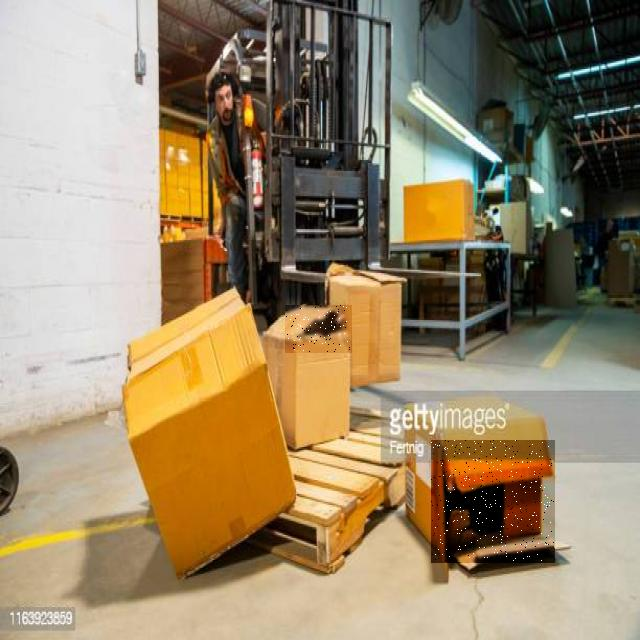leakage: (432, 440, 554, 561)
tear: (286, 305, 350, 352)
